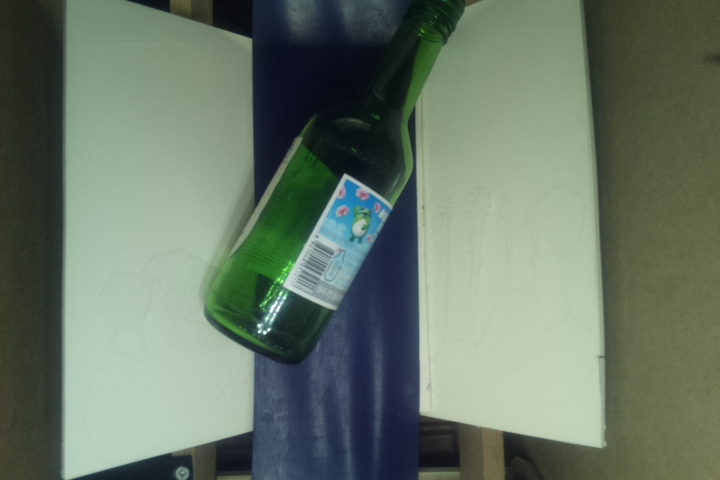soju: (203, 1, 463, 361)
